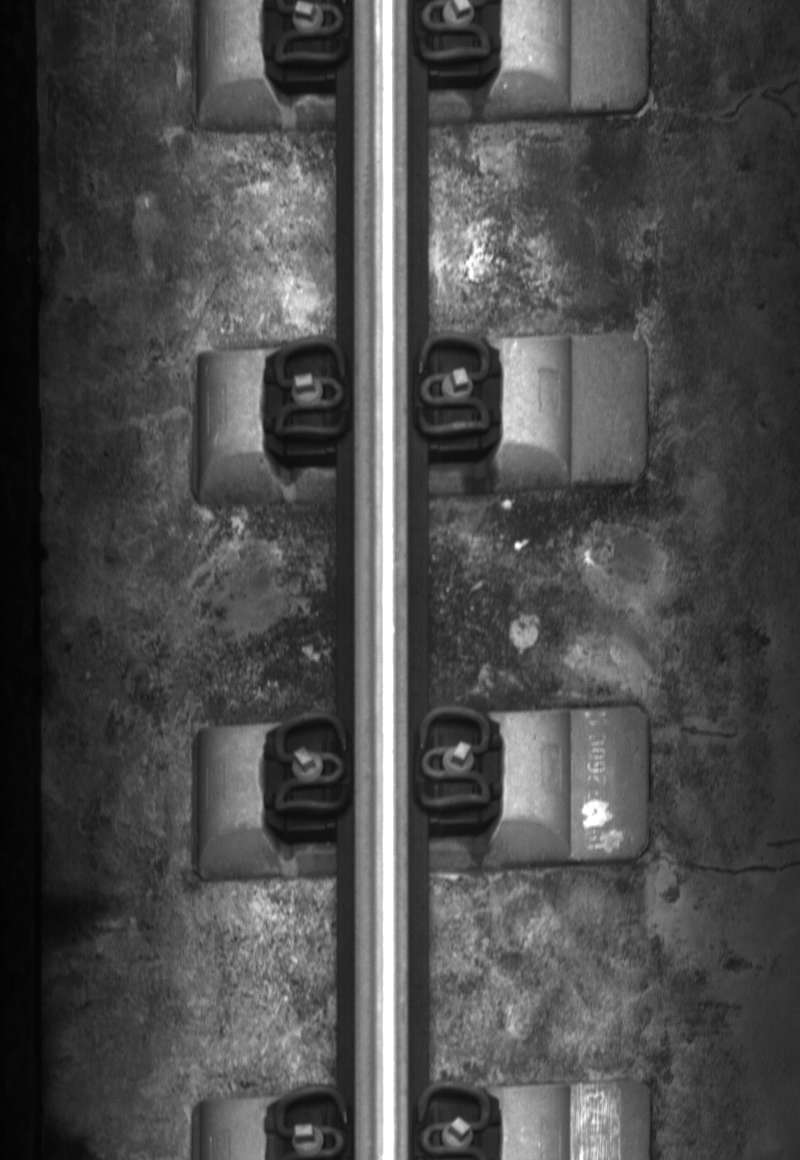l_faster: (267, 708, 352, 826), (267, 333, 352, 448)
r_faster: (411, 700, 495, 816), (410, 328, 494, 444)
